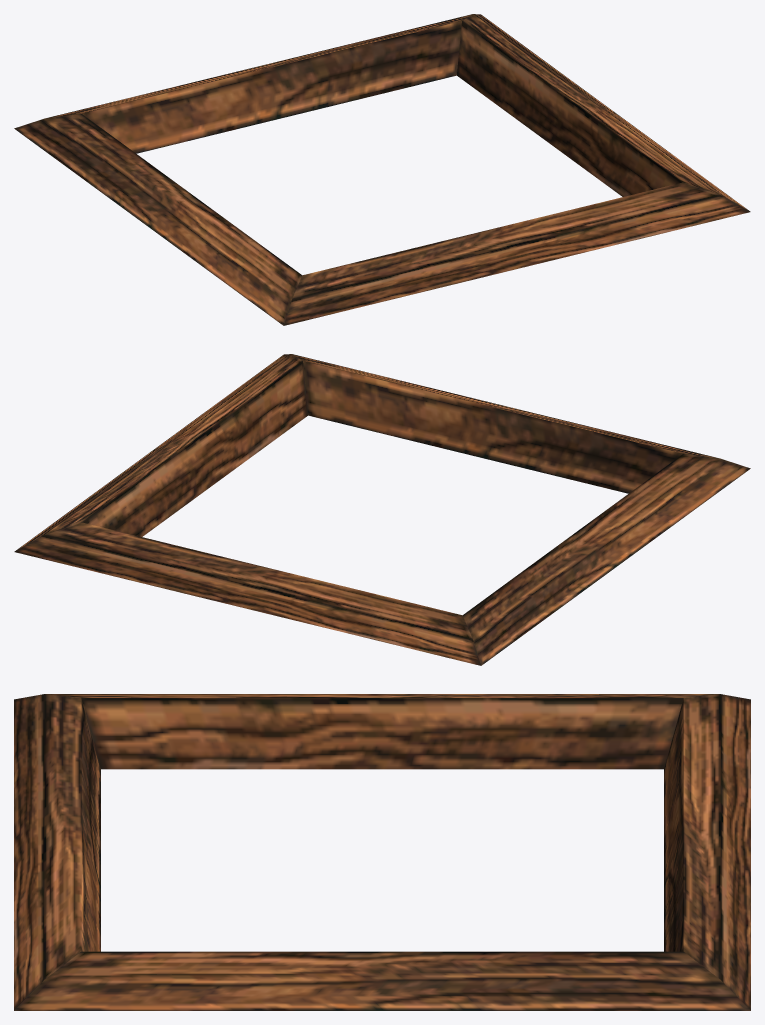
The model's file is INST_LT_PPLATETRIM.fbx.
3 views of the same model, one above another, from view 1: azimuth 30°, elevation 25°; view 2: azimuth 150°, elevation 25°; view 3: azimuth 270°, elevation 25° (orthographic). The views are drawn at different scales.
Visible parts, largest first — view 1: INST_LT_PPLATETRIM; view 2: INST_LT_PPLATETRIM; view 3: INST_LT_PPLATETRIM.
Boxes of the visible parts, x1=… form: INST_LT_PPLATETRIM: x1=14, y1=14, x2=750, y2=325; INST_LT_PPLATETRIM: x1=14, y1=354, x2=750, y2=665; INST_LT_PPLATETRIM: x1=14, y1=694, x2=750, y2=1010.
Bounding box in the file's own units: 25000 × 2359 × 25000.
1 material, 1 textured.
